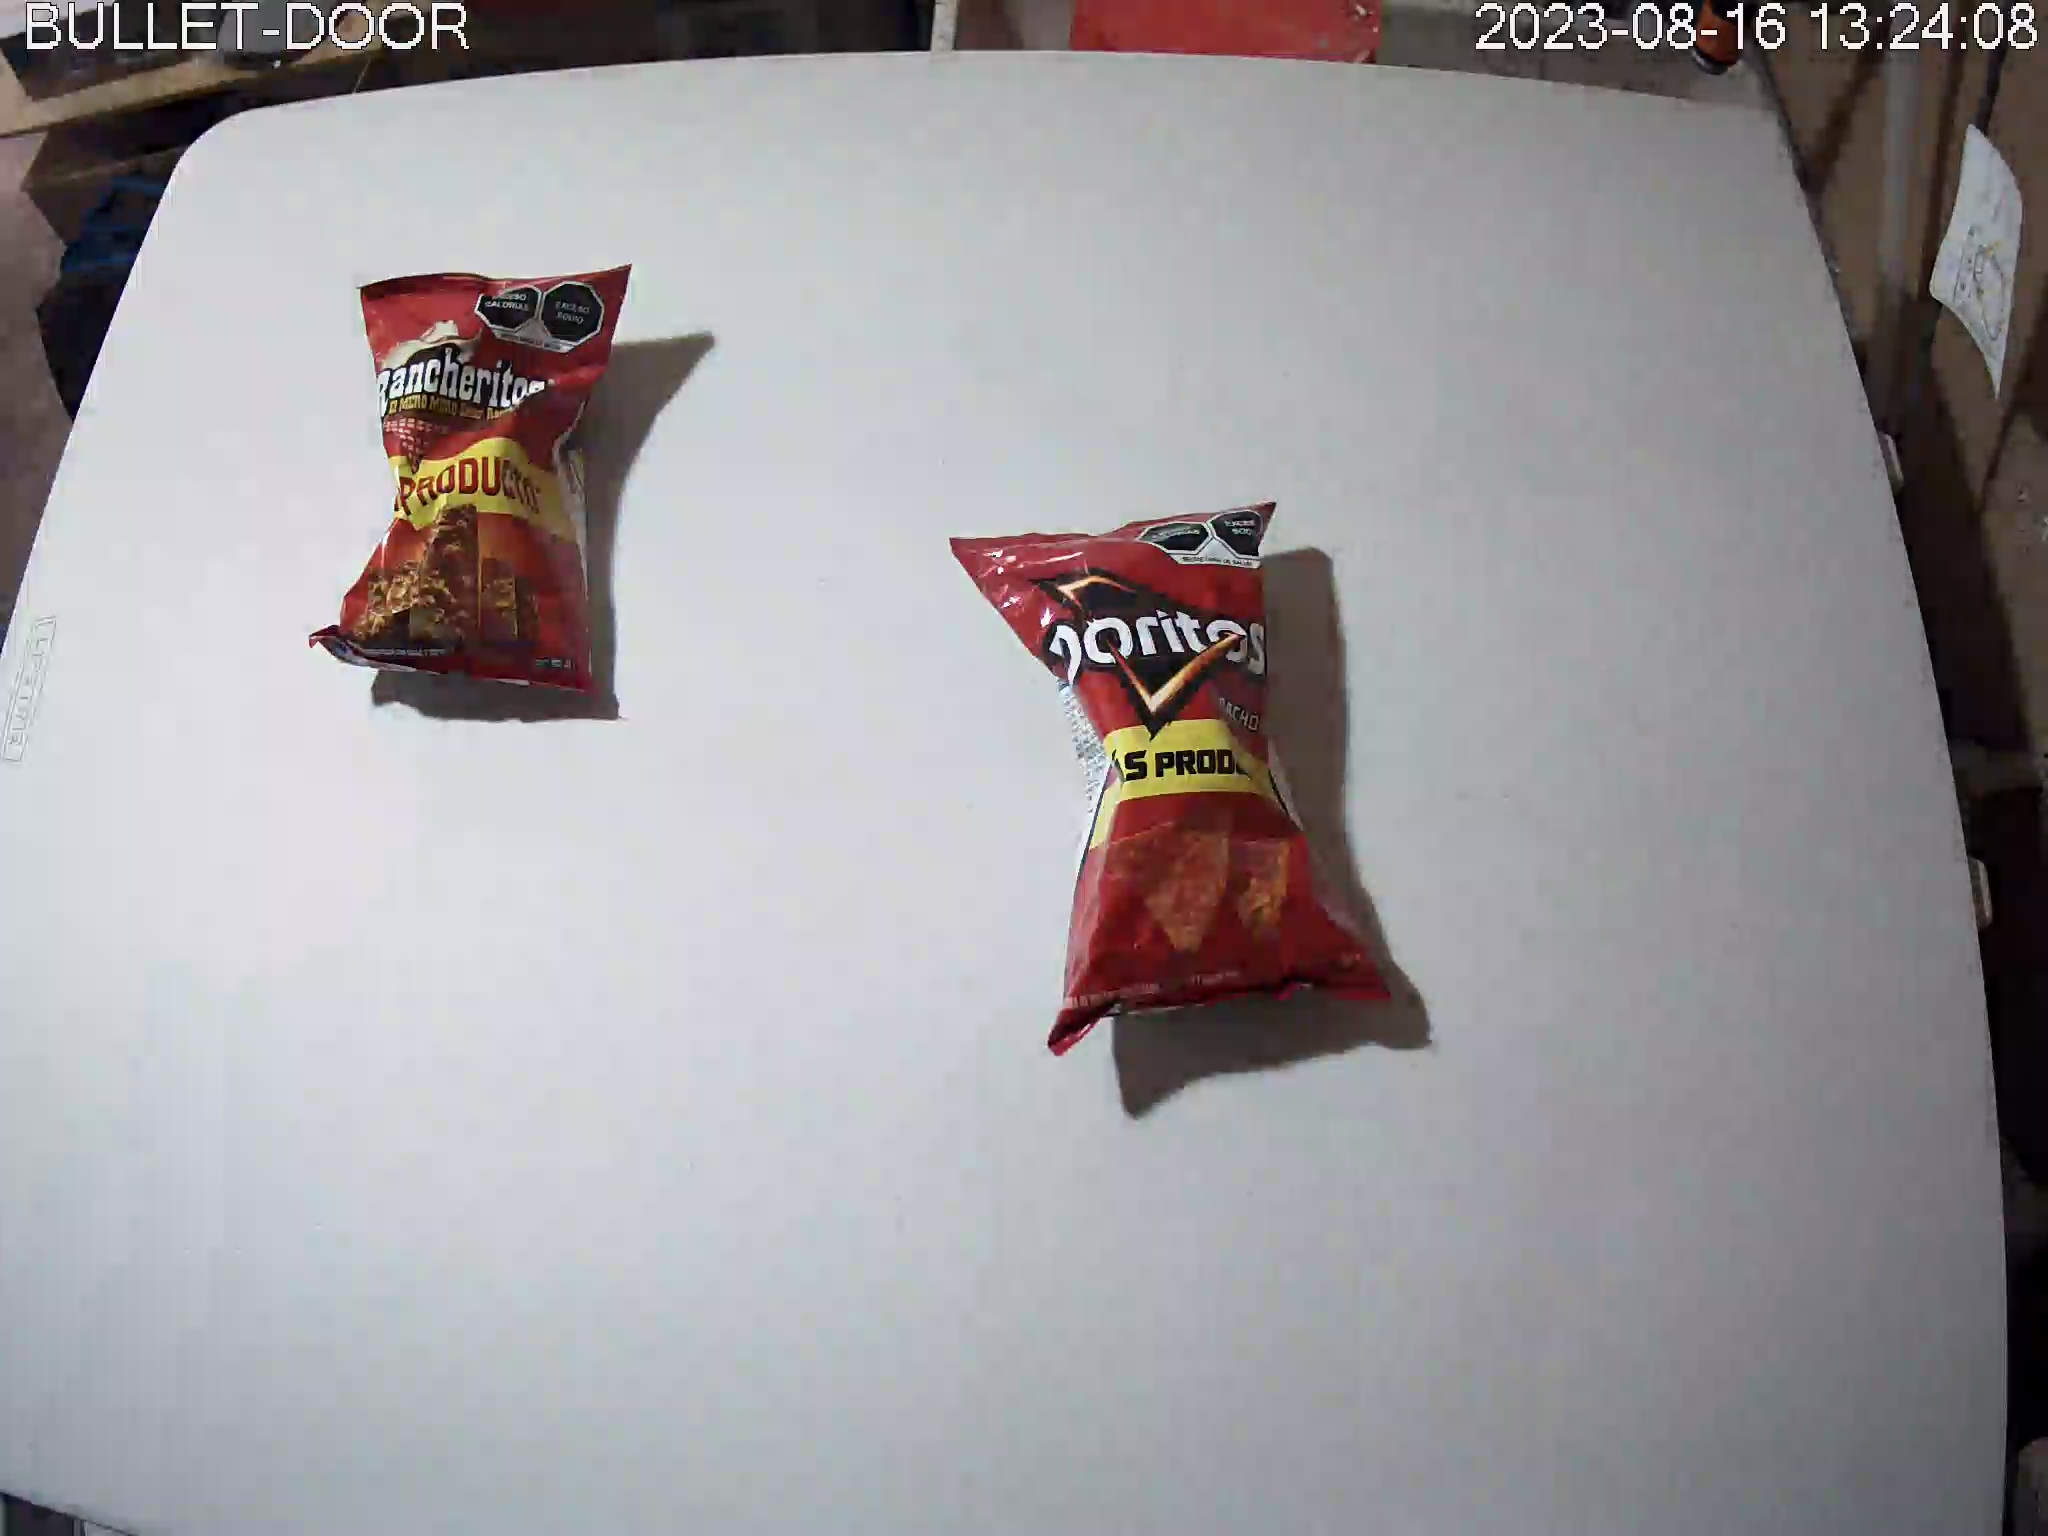DoritosN_61_F: (951, 500, 1392, 1058)
Rancheritos_58_F: (308, 261, 635, 703)
